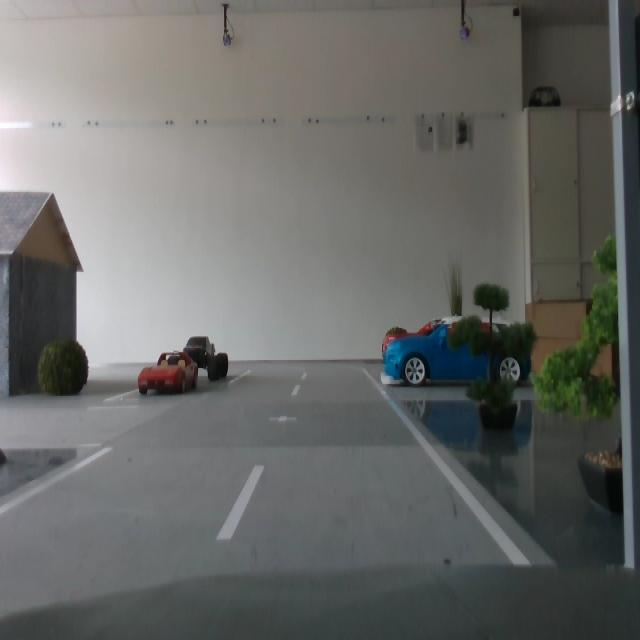car: (383, 316, 532, 388), (382, 318, 532, 385), (138, 350, 201, 398), (175, 334, 231, 385)
potted plant: (529, 240, 640, 518), (446, 283, 538, 434), (38, 339, 90, 400), (445, 254, 465, 367), (382, 327, 415, 367)
